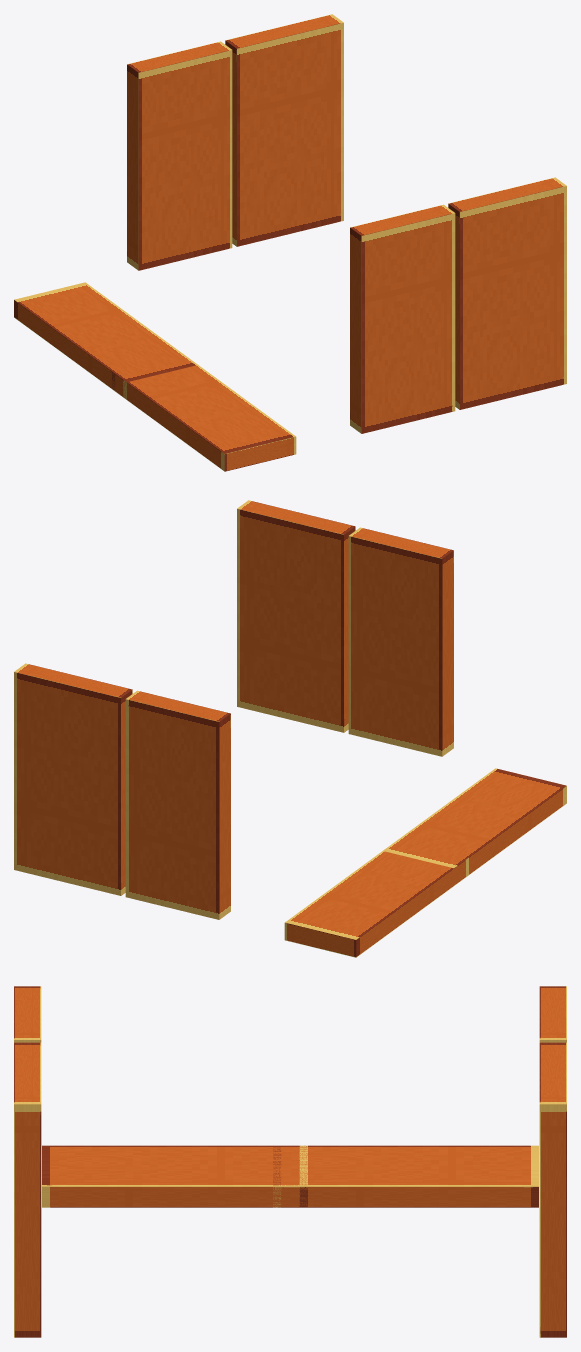
The model's file is bench_leggings_1_hot.obj.
The picture shows the model from 3 angles, top to bottom: view 1: azimuth 30°, elevation 25°; view 2: azimuth 150°, elevation 25°; view 3: azimuth 270°, elevation 25°; orthographic projection. The views are drawn at different scales.
Visible parts, largest first — view 1: geometry; view 2: geometry; view 3: geometry.
Boxes of the visible parts, left/top/right/bottom form: geometry: left=14, top=14, right=566, bottom=471; geometry: left=14, top=500, right=566, bottom=957; geometry: left=14, top=986, right=566, bottom=1337.
Bounding box in the file's own units: 0.4039 × 0.25 × 0.4967.
